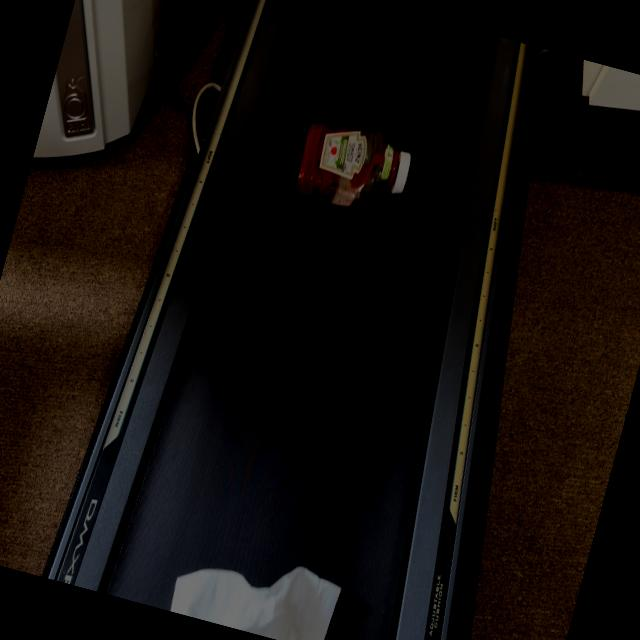Recycle: (166, 534, 344, 640)
Trash: (289, 113, 416, 227)
